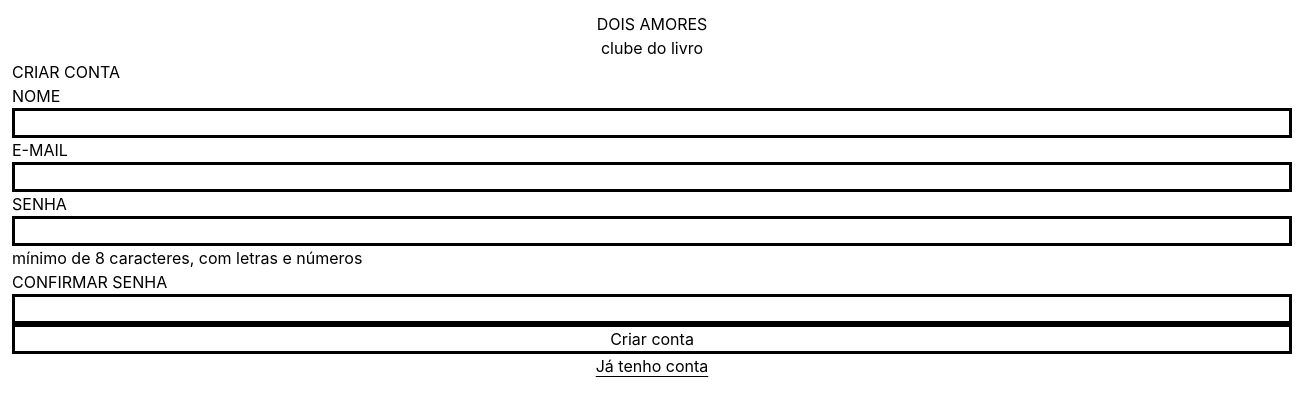
cadastro › pede confirmação por e-mail depois do cadastro
Type "Leyna" into the field labelled "Nome".
click(652, 123); type("Leyna")  # box 12,108 -> 1292,138
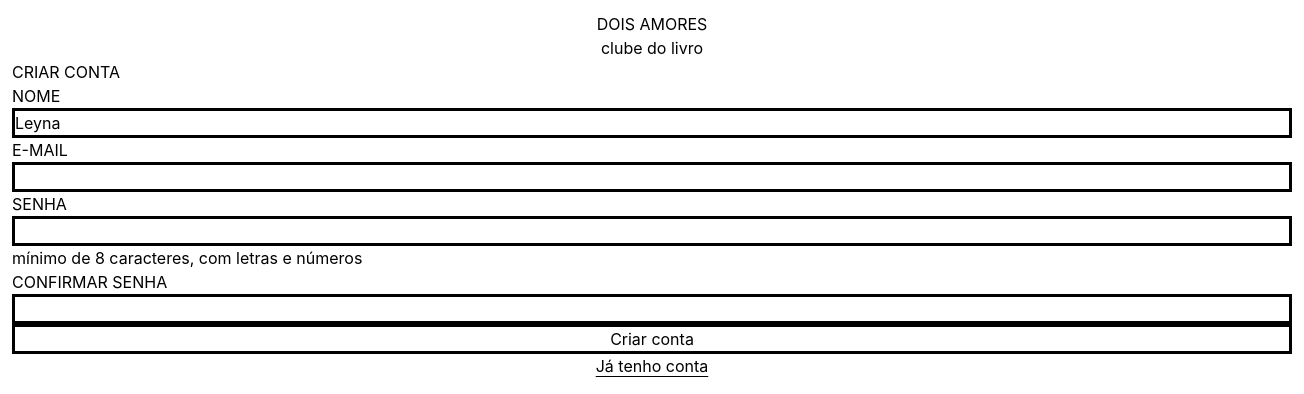
Type "leyna@example.com" into the field labelled "E-mail".
click(652, 177); type("leyna@example.com")  # box 12,162 -> 1292,192
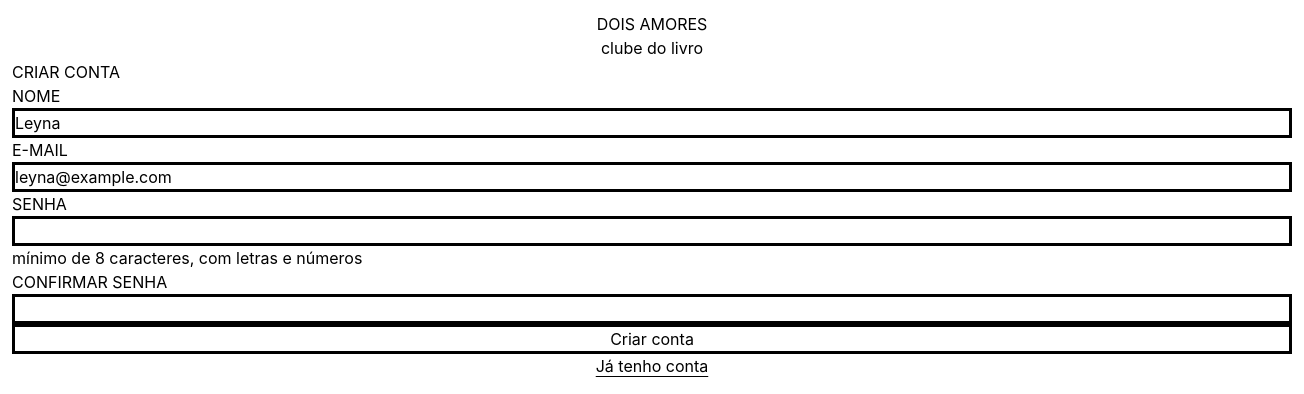
Type "livros2026" into the password field labelled "Senha".
click(652, 231); type("livros2026")  # box 12,216 -> 1292,246
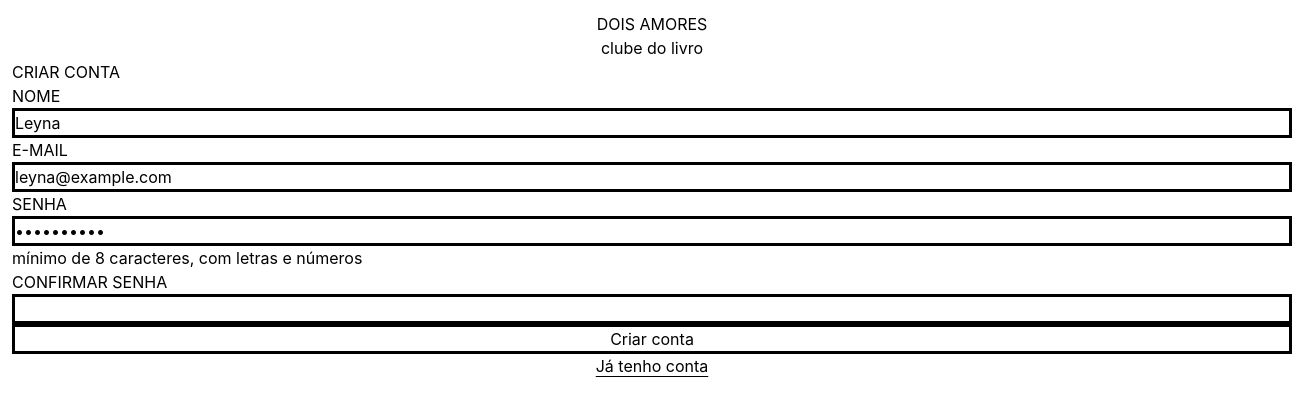
Type "livros2026" into the password field labelled "Confirmar senha".
click(652, 309); type("livros2026")  # box 12,294 -> 1292,324
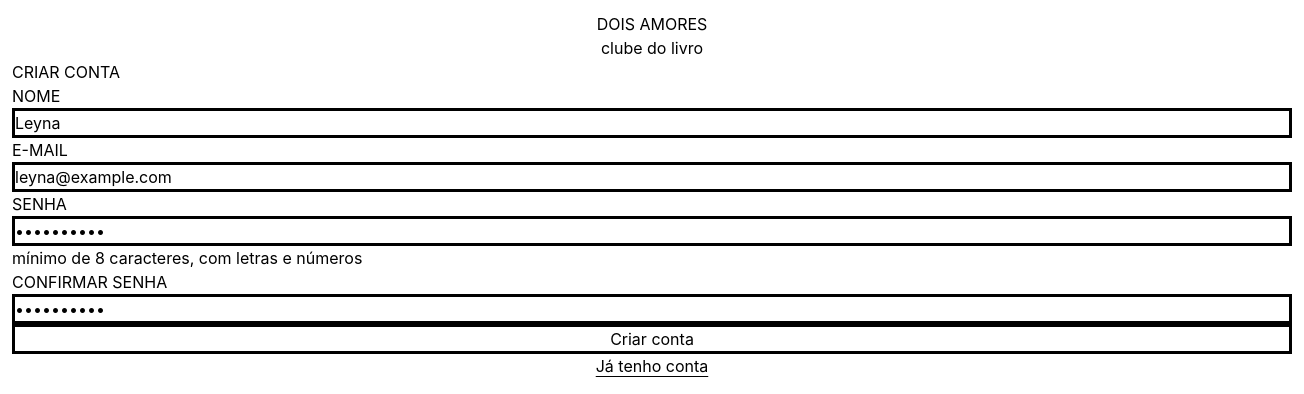
Click the button "Criar conta".
click(652, 339)  # box 12,324 -> 1292,354
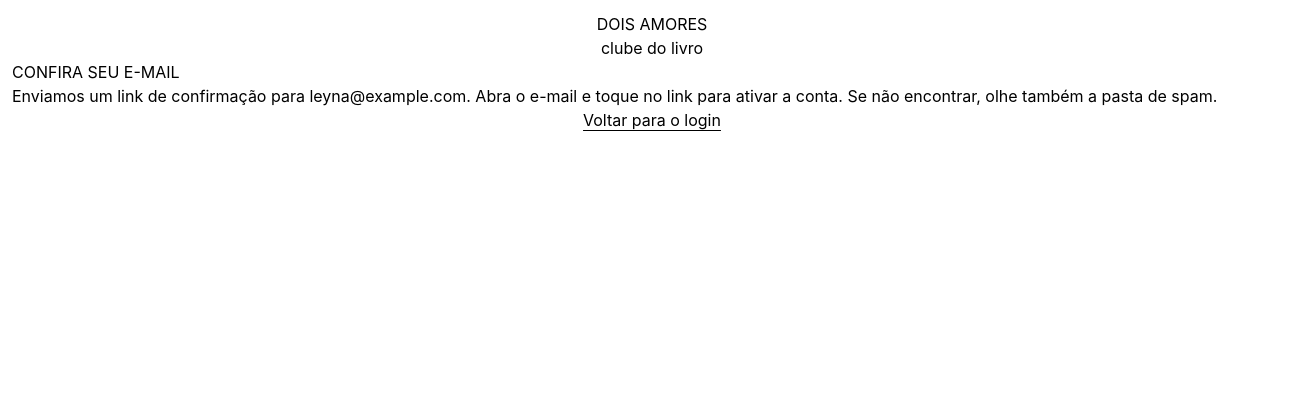
Check: the heading "Confira seu e-mail" is shown, box 12,62 -> 180,82
